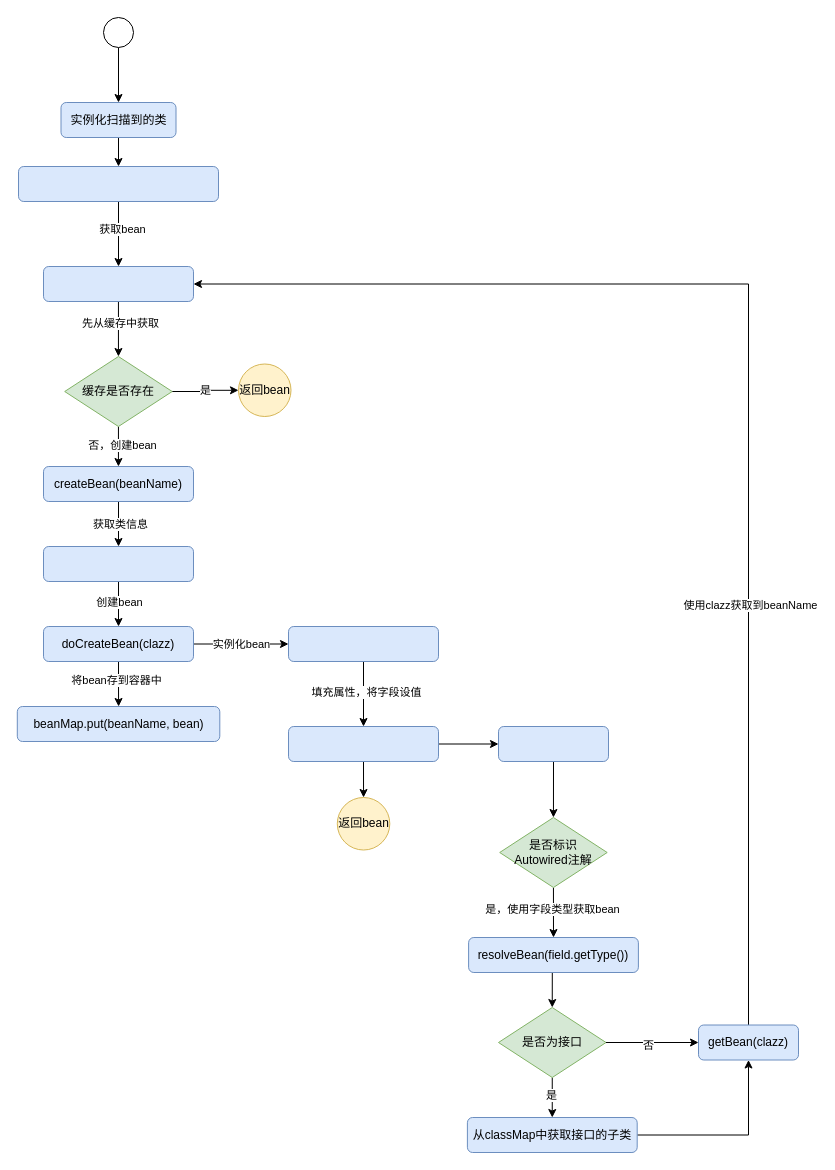
This 835x1170 diagram has some shape labels left out. Here are the shapes that lost their labels. From the top down, the centre of each, then its label:
pixel 118 184: 遍历classMap
pixel 118 284: getBean(beanName)
pixel 118 564: classMap.get(beanName)
pixel 363 644: newInstance(clazz)
pixel 363 744: populateBean(bean, clazz)
pixel 553 744: 遍历字段
